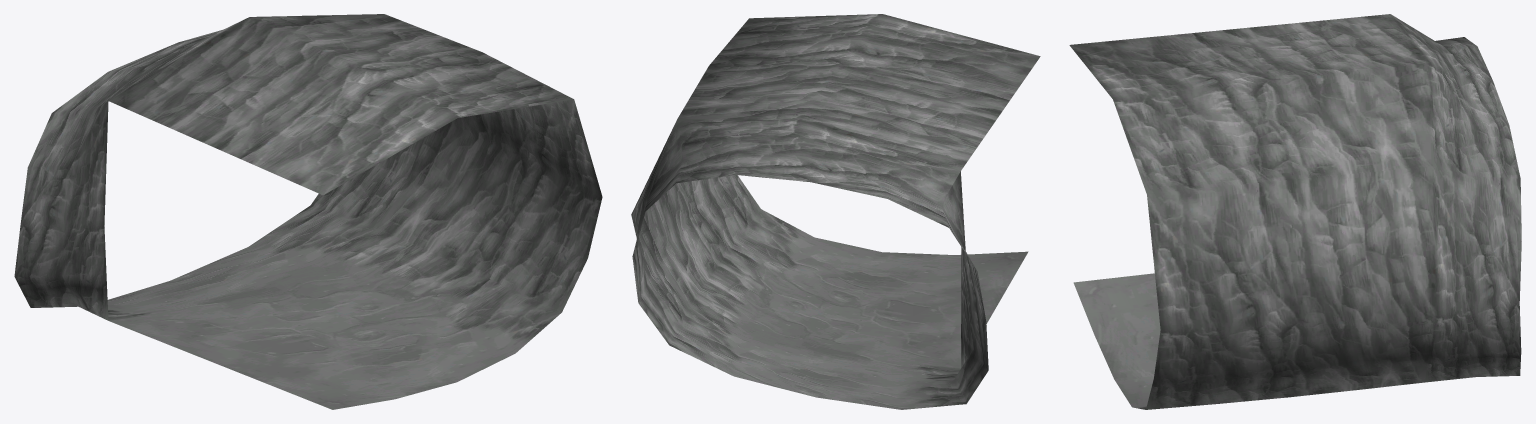
The model's file is SWORDLIGHT20_PS-AREA03-04TRANS_04.fbx.
3 renders of one model, left to right at view 1: azimuth 30°, elevation 25°; view 2: azimuth 150°, elevation 25°; view 3: azimuth 270°, elevation 25°, orthographic. The views are drawn at different scales.
Parts seen in each view (by area): view 1: SWORDLIGHT20_PS-AREA03-04TRANS_04; view 2: SWORDLIGHT20_PS-AREA03-04TRANS_04; view 3: SWORDLIGHT20_PS-AREA03-04TRANS_04.
Part boxes in pixels (bbox=[...]): SWORDLIGHT20_PS-AREA03-04TRANS_04: bbox=[14, 14, 602, 409]; SWORDLIGHT20_PS-AREA03-04TRANS_04: bbox=[631, 14, 1040, 409]; SWORDLIGHT20_PS-AREA03-04TRANS_04: bbox=[1069, 14, 1521, 409].
Size of the model in its own units: 78532 by 45960 by 64936.
Materials: 3 (3 with a texture image).
